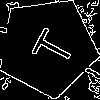T: (22, 22, 77, 71)
